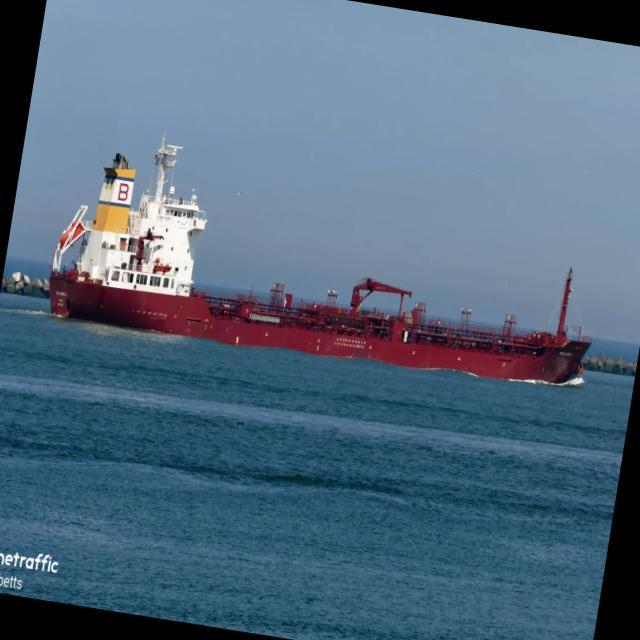Tanker: (49, 139, 592, 383)
